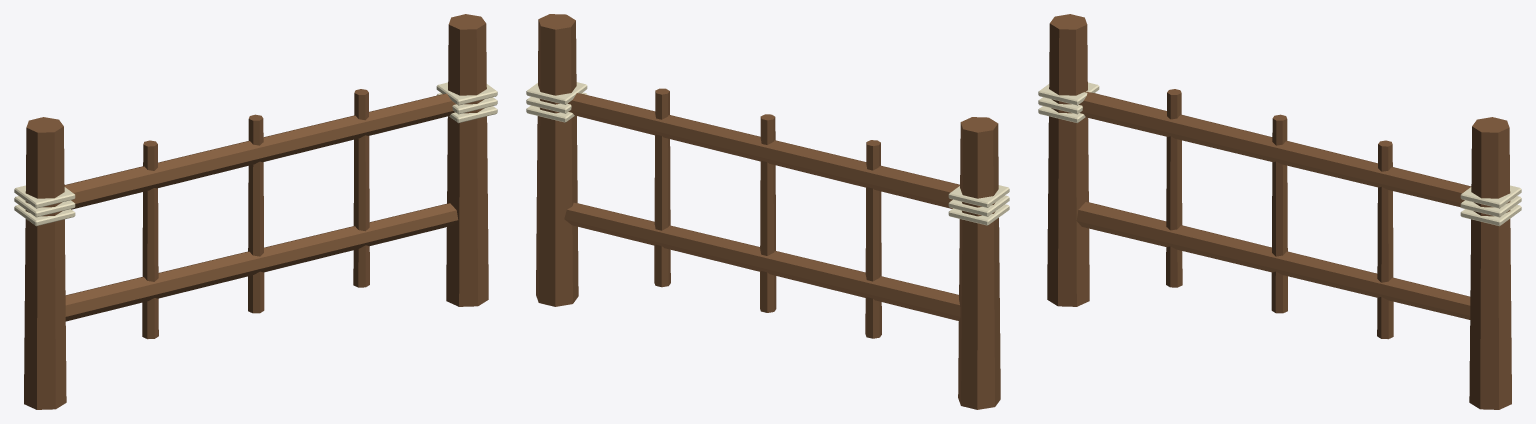
File: CC_RanchFence.fbx
The picture shows the model from 3 angles, left to right: view 1: azimuth 30°, elevation 25°; view 2: azimuth 150°, elevation 25°; view 3: azimuth 330°, elevation 25°; orthographic projection.
Parts seen in each view (by area): view 1: Post.004, Post.005, Rail, Rail.001, Twig.002, Twig.001, Twig, Fiber binding.020, Fiber binding.023, Fiber binding.019, Fiber binding.018; view 2: Post.004, Post.005, Rail, Rail.001, Twig.002, Twig.001, Twig, Fiber binding.020, Fiber binding.023, Fiber binding.019, Fiber binding.018; view 3: Post.005, Post.004, Rail, Rail.001, Twig.002, Twig.001, Twig, Fiber binding.023, Fiber binding.020, Fiber binding.022, Fiber binding.021.
Part boxes in pixels (<box>): Post.004: <box>24,117,66,409</box>; Post.005: <box>446,14,488,306</box>; Rail: <box>65,203,458,321</box>; Rail.001: <box>64,93,456,209</box>; Twig.002: <box>353,89,369,287</box>; Twig.001: <box>248,114,264,313</box>; Twig: <box>142,140,158,339</box>; Fiber binding.020: <box>14,185,75,208</box>; Fiber binding.023: <box>436,82,497,105</box>; Fiber binding.019: <box>14,196,75,217</box>; Fiber binding.018: <box>14,205,75,226</box>; Post.004: <box>958,117,1000,409</box>; Post.005: <box>536,14,578,306</box>; Rail: <box>564,202,960,320</box>; Rail.001: <box>568,93,959,208</box>; Twig.002: <box>654,88,670,287</box>; Twig.001: <box>760,114,776,312</box>; Twig: <box>865,140,881,338</box>; Fiber binding.020: <box>948,185,1009,207</box>; Fiber binding.023: <box>526,82,587,104</box>; Fiber binding.019: <box>948,195,1009,216</box>; Fiber binding.018: <box>948,204,1009,225</box>; Post.005: <box>1469,117,1511,409</box>; Post.004: <box>1047,14,1089,306</box>; Rail: <box>1076,202,1470,319</box>; Rail.001: <box>1079,91,1471,207</box>; Twig.002: <box>1377,140,1393,339</box>; Twig.001: <box>1271,114,1287,313</box>; Twig: <box>1166,89,1182,287</box>; Fiber binding.023: <box>1460,185,1521,208</box>; Fiber binding.020: <box>1038,82,1099,105</box>; Fiber binding.022: <box>1460,196,1521,217</box>; Fiber binding.021: <box>1460,205,1521,226</box>.
Size of the model in its own units: 2.19 by 1.25 by 0.18.
